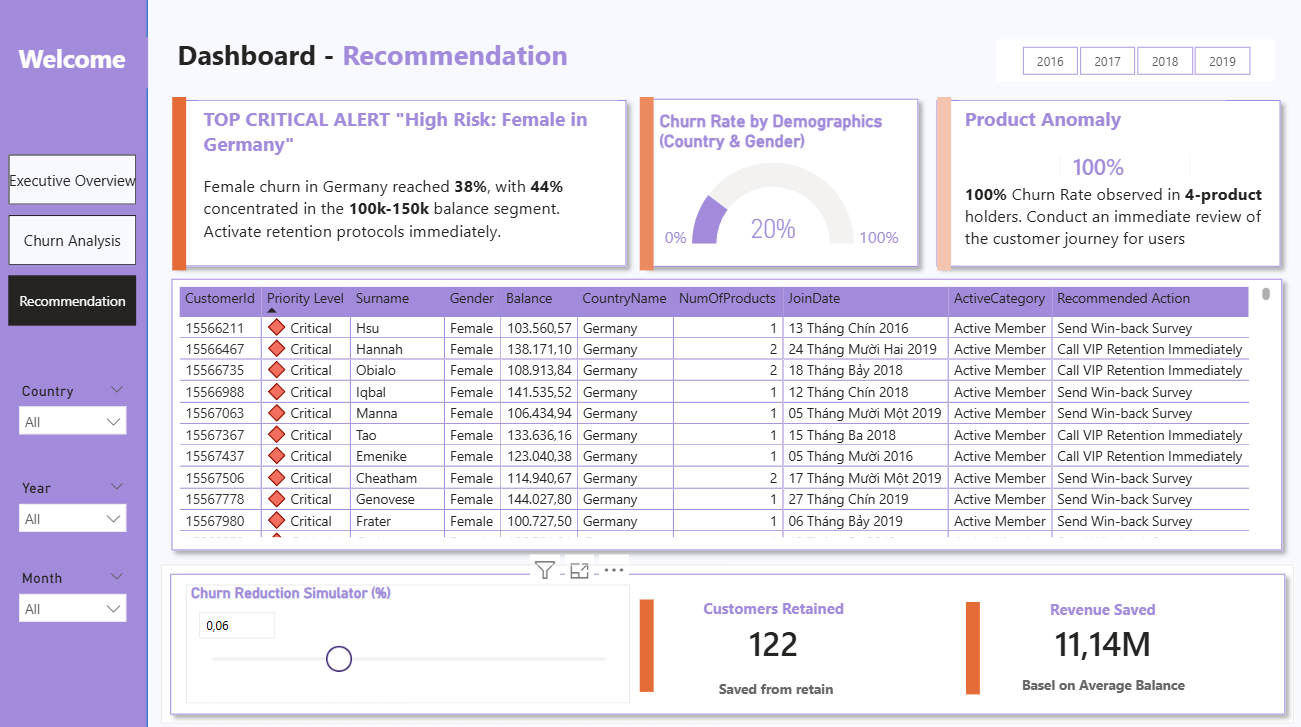

Layout of this report page (visuals, bound fields, positions):
{"tool":"powerbi","page":{"name":"Recommendation ","canvas":[1280,720],"ordinal":2},"visuals":[{"type":"group","id":"g1","title":"Group 1","box":[0,0,148.4,720.3],"z":0},{"type":"shape","box":[0,0,148.4,720.3],"z":0,"group":"g1"},{"type":"textbox","box":[172.9,33.6,497.7,57.5],"z":0,"group":"g3"},{"type":"group","id":"g2","title":"Group 4","box":[161.4,555.1,1118.6,155.8],"z":0,"group":"g12"},{"type":"textbox","box":[0,39.1,148.4,50],"z":1000,"group":"g1"},{"type":"slicer","fields":{"Values":["Dim_Date.Year"]},"box":[979.2,41.9,272.8,41],"z":1000,"group":"g3"},{"type":"slicer","fields":{"Values":["Dim_Date.MonthName"]},"box":[12.5,554.7,125,71.9],"z":1000},{"type":"group","id":"g3","title":"Group 2","box":[172.9,33.6,1079,57.5],"z":2000},{"type":"slicer","fields":{"Values":["Dim_Date.Year"]},"box":[12.5,467.2,125,71.9],"z":2000,"group":"g1"},{"type":"cardVisual","fields":{"Data":["Measure.Simulated Retained Customers"]},"box":[656.2,570.8,271.5,97.8],"z":2000,"group":"g12"},{"type":"cardVisual","fields":{"Data":["Measure.Simulated Saved Revenue"]},"box":[953.3,570.8,267.8,100.3],"z":2500,"group":"g12"},{"type":"shape","box":[624.7,90.4,286.5,182.5],"z":3000,"group":"g6"},{"type":"shape","box":[911.3,91.8,354.6,181.1],"z":3000,"group":"g8"},{"type":"group","id":"g4","title":"Group 6","box":[163.3,92,461.9,180.9],"z":3000},{"type":"shape","box":[163.3,92,461.9,180.9],"z":3000,"group":"g9"},{"type":"shape","box":[163,267,1104.7,283.8],"z":3000,"group":"g10"},{"type":"slicer","fields":{"Values":["dim_geography.CountryName"]},"box":[12.5,371.9,125,73.4],"z":3000,"group":"g1"},{"type":"shape","box":[161.4,555.1,1115.5,156],"z":3000,"group":"g2"},{"type":"slicer","title":"Churn Reduction Simulator (%)","fields":{"Values":["Churn Reduction %.Churn Reduction %"]},"box":[186.6,586.7,385.2,103.9],"z":3000,"group":"g12"},{"type":"group","id":"g5","title":"Group 6","box":[624.7,90.4,286.6,182.3],"z":4000},{"type":"pageNavigator","box":[12.5,154.7,125,168.8],"z":4000,"group":"g1"},{"type":"group","id":"g6","title":"Group 4","box":[624.7,90.4,286.6,182.3],"z":5000,"group":"g5"},{"type":"group","id":"g7","title":"Group 6","box":[911.3,91.8,354.8,180.9],"z":5000},{"type":"group","id":"g8","title":"Group 4","box":[911.3,91.8,354.8,180.9],"z":5000,"group":"g7"},{"type":"group","id":"g9","title":"Group 4","box":[163.3,92,461.9,180.9],"z":5000,"group":"g4"},{"type":"group","id":"g10","title":"Group 4","box":[163,267,1104.7,283.8],"z":5000,"group":"g11"},{"type":"group","id":"g11","title":"Group 6","box":[163,267,1104.7,283.8],"z":6000},{"type":"group","id":"g12","title":"Group 6","box":[161.4,555.1,1118.6,155.8],"z":7000},{"type":"textbox","box":[174.9,101.5,432.9,62.4],"z":8000},{"type":"textbox","box":[929.4,101.5,273.9,52.6],"z":9000},{"type":"gauge","title":"Churn Rate by Demographics (Country & Gender)","fields":{"Y":["Measure.Exit Customer(%)"]},"box":[636.1,104.5,264.1,154.1],"z":9000,"group":"g5"},{"type":"pivotTable","title":"Churn Rate by Demographics (Country & Gender)","fields":{"Rows":["fact_churn.CustomerId"],"Values":["Min(fact_churn.Priority Level)","Min(dim_customer.Surname)","Min(dim_gender.GenderName)","Avg(fact_churn.Balance)","Min(dim_geography.CountryName)","Sum(fact_churn.NumOfProducts)","Min(fact_churn.JoinDate)","Min(dim_active_status.ActiveCategory)","Min(fact_churn.Recommended Action)"]},"box":[175.5,279.6,1076.9,254.6],"z":9000,"group":"g11"},{"type":"textbox","box":[176.1,168.8,431.7,90.5],"z":10000},{"type":"textbox","box":[929.4,176.7,322.8,86.3],"z":11000},{"type":"textbox","box":[656.7,662.8,271.5,31.8],"z":12000},{"type":"textbox","box":[960.7,657.7,269,33],"z":13002,"group":"g12"},{"type":"cardVisual","title":"Churn Rate by Demographics (Country & Gender)","fields":{"Data":["Measure.% Churn 4 Products"]},"box":[1024,115.7,162.9,94.1],"z":14000,"group":"g7"}]}

Visuals, with their boxes on the page's 1280x720 design canvas (x1, y1, x2, y2). These are canvas units, not pixel positions in the 1301x727 screenshot, which may show the page scaled, cropped or inside an application window:
"Group 1" group: box(0, 0, 148, 720)
shape: box(0, 0, 148, 720)
textbox: box(173, 34, 671, 91)
"Group 4" group: box(161, 555, 1280, 711)
textbox: box(0, 39, 148, 89)
slicer - Dim_Date.Year: box(979, 42, 1252, 83)
slicer - Dim_Date.MonthName: box(12, 555, 138, 627)
"Group 2" group: box(173, 34, 1252, 91)
slicer - Dim_Date.Year: box(12, 467, 138, 539)
cardVisual - Measure.Simulated Retained Customers: box(656, 571, 928, 669)
cardVisual - Measure.Simulated Saved Revenue: box(953, 571, 1221, 671)
shape: box(625, 90, 911, 273)
shape: box(911, 92, 1266, 273)
"Group 6" group: box(163, 92, 625, 273)
shape: box(163, 92, 625, 273)
shape: box(163, 267, 1268, 551)
slicer - dim_geography.CountryName: box(12, 372, 138, 445)
shape: box(161, 555, 1277, 711)
"Churn Reduction Simulator (%)" slicer: box(187, 587, 572, 691)
"Group 6" group: box(625, 90, 911, 273)
pageNavigator: box(12, 155, 138, 324)
"Group 4" group: box(625, 90, 911, 273)
"Group 6" group: box(911, 92, 1266, 273)
"Group 4" group: box(911, 92, 1266, 273)
"Group 4" group: box(163, 92, 625, 273)
"Group 4" group: box(163, 267, 1268, 551)
"Group 6" group: box(163, 267, 1268, 551)
"Group 6" group: box(161, 555, 1280, 711)
textbox: box(175, 102, 608, 164)
textbox: box(929, 102, 1203, 154)
"Churn Rate by Demographics (Country & Gender)" gauge: box(636, 104, 900, 259)
"Churn Rate by Demographics (Country & Gender)" pivotTable: box(176, 280, 1252, 534)
textbox: box(176, 169, 608, 259)
textbox: box(929, 177, 1252, 263)
textbox: box(657, 663, 928, 695)
textbox: box(961, 658, 1230, 691)
"Churn Rate by Demographics (Country & Gender)" cardVisual: box(1024, 116, 1187, 210)
